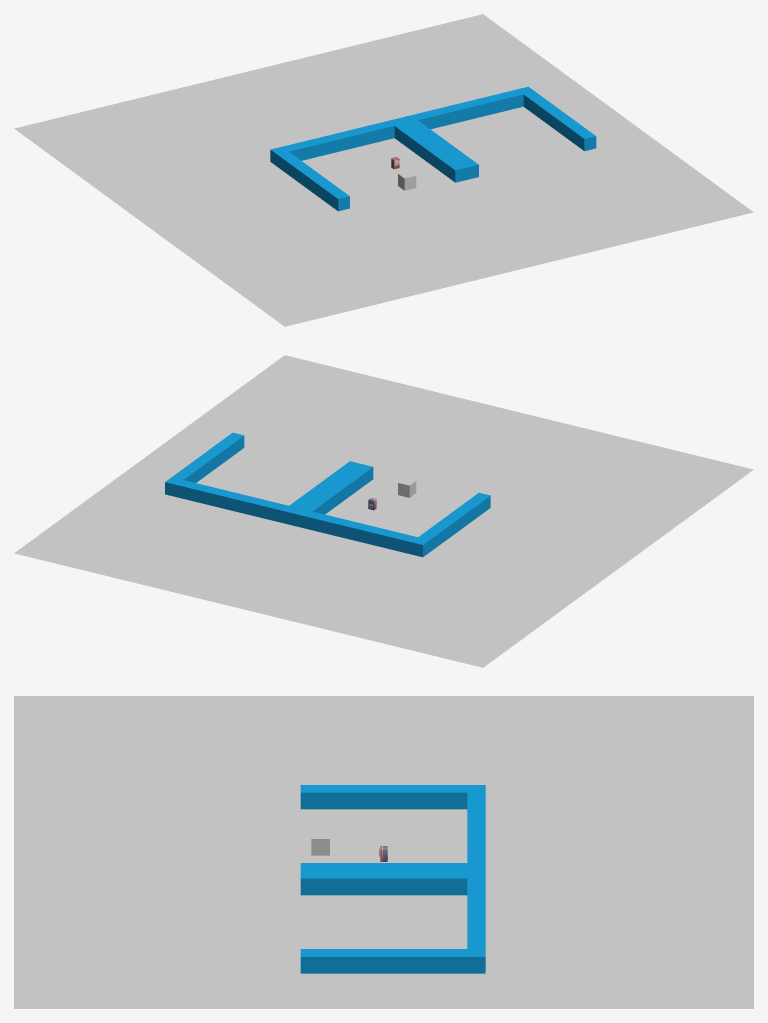
The model's file is level-002.glb.
3 renders of one model, top to bottom at view 1: azimuth 30°, elevation 25°; view 2: azimuth 150°, elevation 25°; view 3: azimuth 270°, elevation 25°, orthographic. The views are drawn at different scales.
Parts seen in each view (by area): view 1: Floor.003, Cube.006, Cube.009, Cube.008, Cube.005, Cube.004, Cube.007, CustomerNpcSpawner; view 2: Floor.003, Cube.006, Cube.009, Cube.004, Cube.005, Cube.008, CustomerNpcSpawner, Cube.007; view 3: Floor.003, Cube.008, Cube.004, Cube.007, Cube.009, Cube.006, CustomerNpcSpawner, Cube.005.
Part boxes in pixels (x1,y1,x2,y2): Floor.003: (14,14,753,326); Cube.006: (270,118,405,166); Cube.009: (400,86,534,129); Cube.008: (523,91,596,151); Cube.005: (394,123,467,182); Cube.004: (277,151,349,211); Cube.007: (406,120,478,179); CustomerNpcSpawner: (449,188,571,221); Floor.003: (14,355,753,667); Cube.006: (294,509,429,557); Cube.009: (165,477,300,525); Cube.004: (418,492,490,551); Cube.005: (301,464,373,514); Cube.008: (172,432,244,482); CustomerNpcSpawner: (331,429,454,462); Cube.007: (289,461,361,508); Floor.003: (14,696,753,1008); Cube.008: (300,949,467,973); Cube.004: (300,785,467,809); Cube.007: (300,871,467,895); Cube.009: (467,871,485,973); Cube.006: (467,785,485,870); CustomerNpcSpawner: (189,850,208,928); Cube.005: (300,863,467,870).
Bounding box in the file's own units: 40 × 1.04 × 40.
2 materials, 1 textured.
